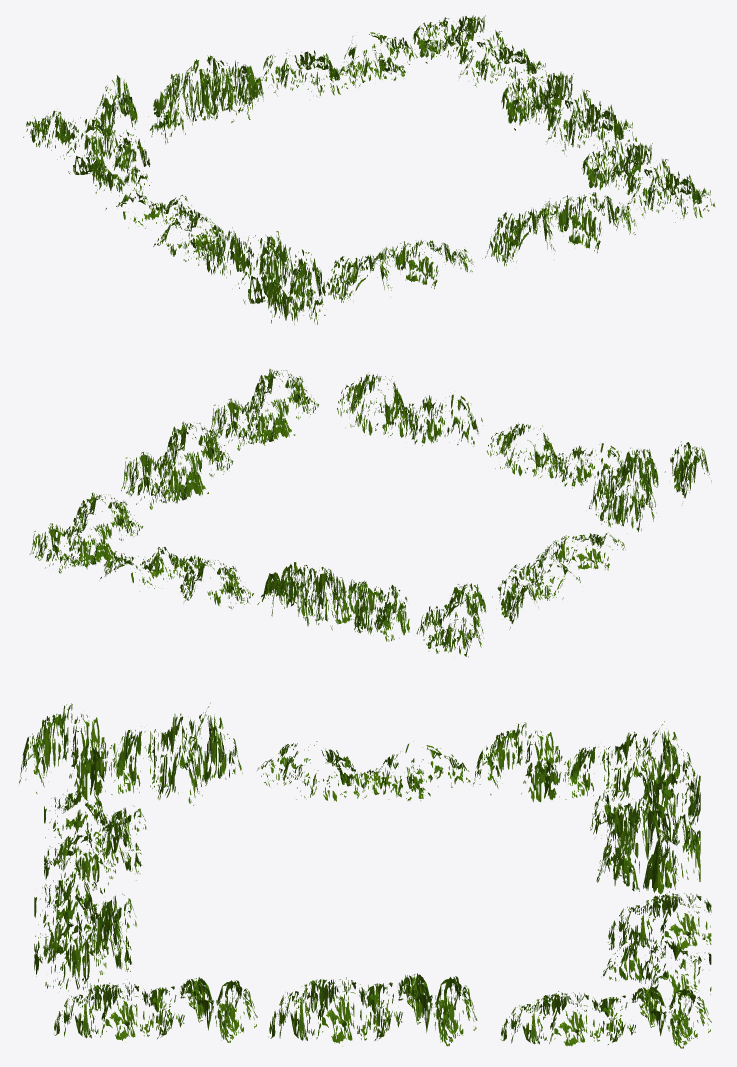
File: mountain.obj
The picture shows the model from 3 angles, top to bottom: view 1: azimuth 30°, elevation 25°; view 2: azimuth 150°, elevation 25°; view 3: azimuth 270°, elevation 25°; orthographic projection. The views are drawn at different scales.
Visible parts, largest first — view 1: default, Object001.001, default001.001, Object001, Object002.002, default001.002, default001, Object002, Object002.003, Object002.001; view 2: default, Object001.001, default001.001, default001.002, Object002.002, default001, Object001, Object002, Object002.003, Object002.001; view 3: Object001.001, default, default001.001, Object001, default001.002, Object002.002, default001, Object002, Object002.003, Object002.001.
Part boxes in pixels (x1,y1,x2,y2): default: (95,55,263,144); Object001.001: (198,227,326,324); default001.001: (501,71,637,156); Object001: (23,110,151,196); Object002.002: (482,192,637,266); default001.002: (581,142,715,222); default001: (413,15,550,92); Object002: (257,32,417,100); Object002.003: (322,240,474,302); Object002.001: (105,190,226,261); default: (257,562,409,641); Object001.001: (589,441,711,531); default001.001: (121,421,233,509); default001.002: (210,369,318,450); Object002.002: (337,374,483,446); default001: (29,492,143,573); Object001: (416,576,538,657); Object002: (100,547,253,608); Object002.003: (486,422,628,488); Object002.001: (509,532,625,600); Object001.001: (19,702,242,805); default: (590,768,700,897); default001.001: (268,973,477,1046); Object001: (473,721,695,805); default001.002: (53,977,257,1042); Object002.002: (34,874,136,993); default001: (500,985,711,1048); Object002: (601,891,711,1004); Object002.003: (44,786,146,894); Object002.001: (257,741,470,801).
Size of the model in its own units: 22.74 by 2.51 by 23.45.
Materials: 1 (1 with a texture image).
